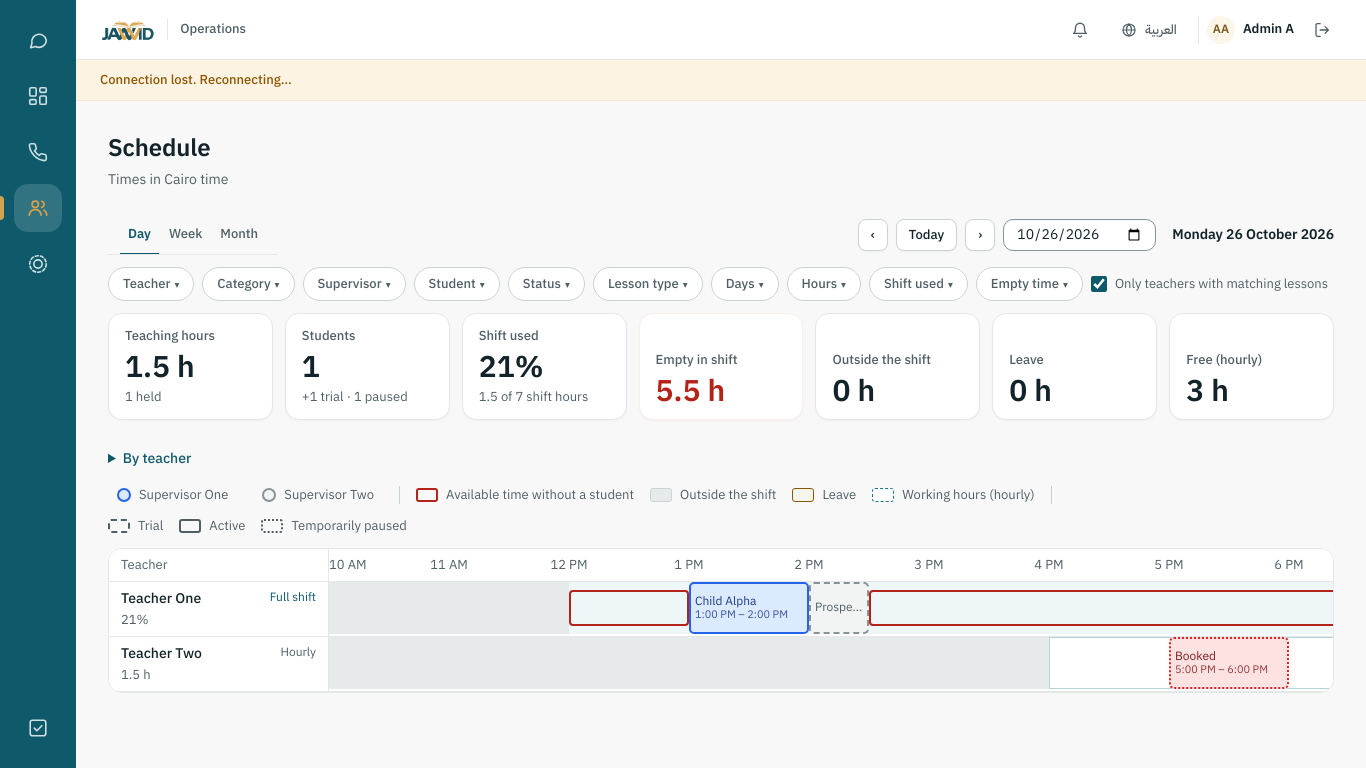
Test: the academy schedule › a lesson opens its details, with the student's profile one click away
Click the button with aria-label "Child Alpha · 1:00 PM – 2:00 PM": (749, 608) x1=689 y1=582 x2=809 y2=634
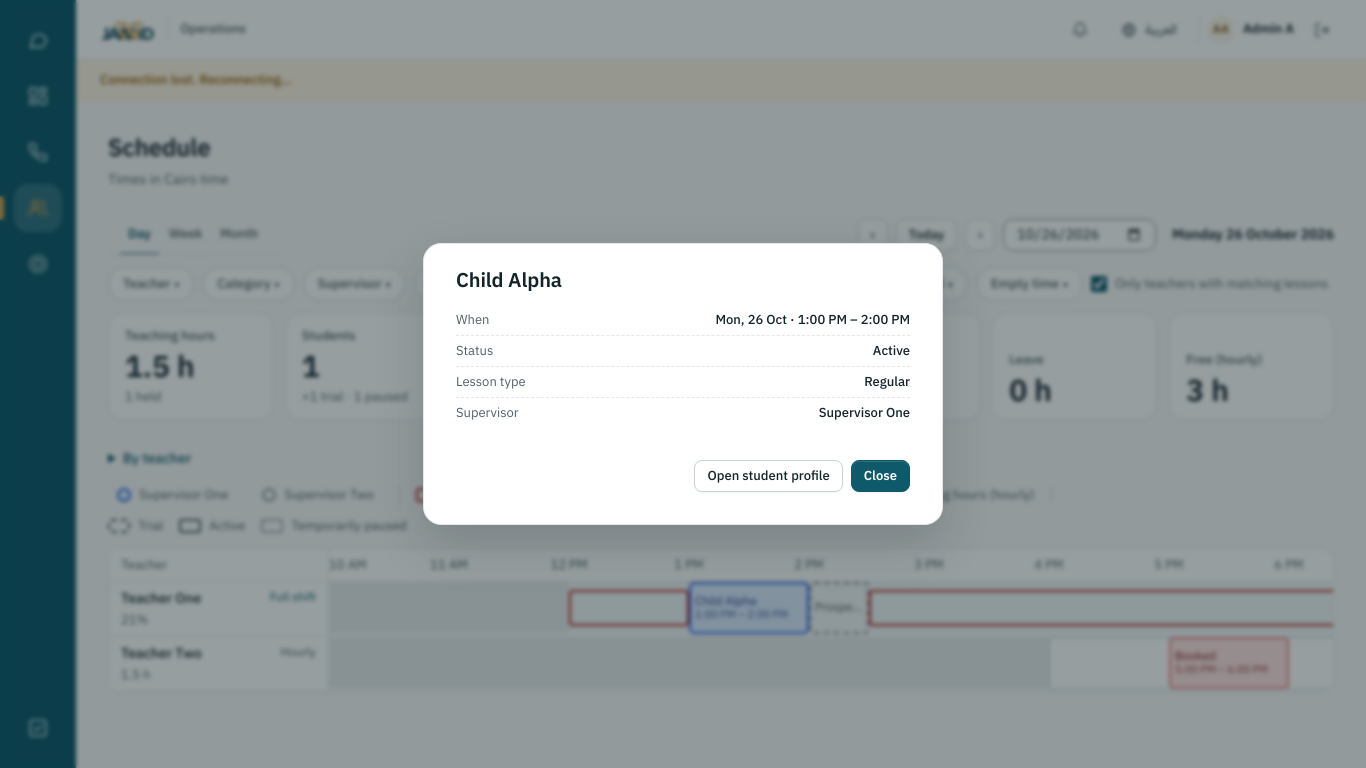
Now the dialog "Child Alpha" shows "Supervisor One", box x1=819 y1=403 x2=910 y2=422
